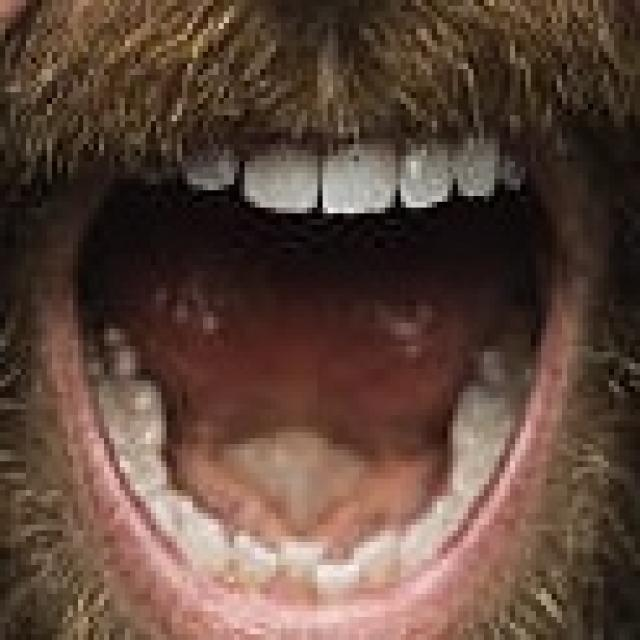open-mouth: (41, 121, 582, 634)
